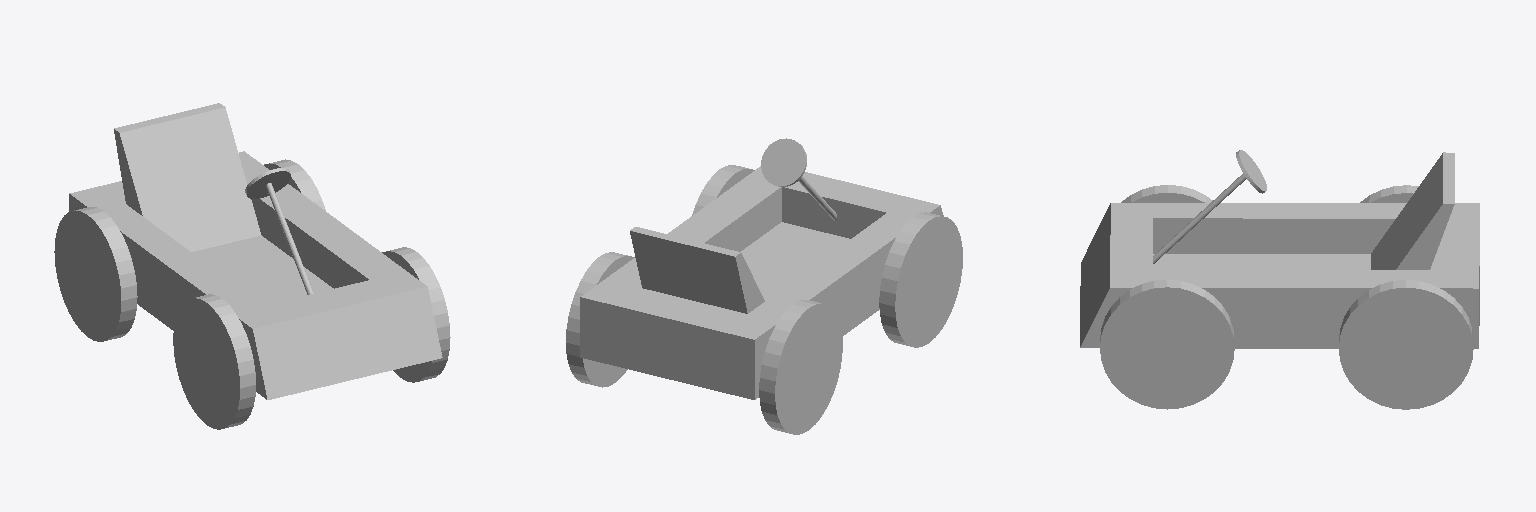
Rendered from kart.obj.
The picture shows the model from 3 angles: view 1: azimuth 30°, elevation 25°; view 2: azimuth 150°, elevation 25°; view 3: azimuth 270°, elevation 25°; orthographic projection.
Parts seen in each view (by area): view 1: Cube.001, Cylinder.002_Cylinder.013, Cylinder.003_Cylinder.014, Cylinder.000_Cylinder.012, Cylinder.001_Cylinder.011; view 2: Cube.001, Cylinder.002_Cylinder.013, Cylinder.003_Cylinder.014, Cylinder.001_Cylinder.011, Cylinder.000_Cylinder.012; view 3: Cube.001, Cylinder.001_Cylinder.011, Cylinder.000_Cylinder.012, Cylinder.002_Cylinder.013, Cylinder.003_Cylinder.014.
Part boxes in pixels (left/top/right/bottom): Cube.001: left=69, top=103, right=442, bottom=399; Cylinder.002_Cylinder.013: left=173, top=294, right=255, bottom=429; Cylinder.003_Cylinder.014: left=54, top=207, right=137, bottom=341; Cylinder.000_Cylinder.012: left=382, top=247, right=450, bottom=382; Cylinder.001_Cylinder.011: left=264, top=159, right=325, bottom=210; Cube.001: left=580, top=138, right=943, bottom=399; Cylinder.002_Cylinder.013: left=879, top=212, right=962, bottom=347; Cylinder.003_Cylinder.014: left=759, top=300, right=842, bottom=434; Cylinder.001_Cylinder.011: left=566, top=252, right=634, bottom=387; Cylinder.000_Cylinder.012: left=692, top=165, right=754, bottom=215; Cube.001: left=1080, top=150, right=1479, bottom=348; Cylinder.001_Cylinder.011: left=1339, top=280, right=1473, bottom=409; Cylinder.000_Cylinder.012: left=1100, top=279, right=1234, bottom=409; Cylinder.002_Cylinder.013: left=1121, top=185, right=1212, bottom=202; Cylinder.003_Cylinder.014: left=1360, top=185, right=1418, bottom=202.
Size of the model in its own units: 2.64 by 2.45 by 4.34.